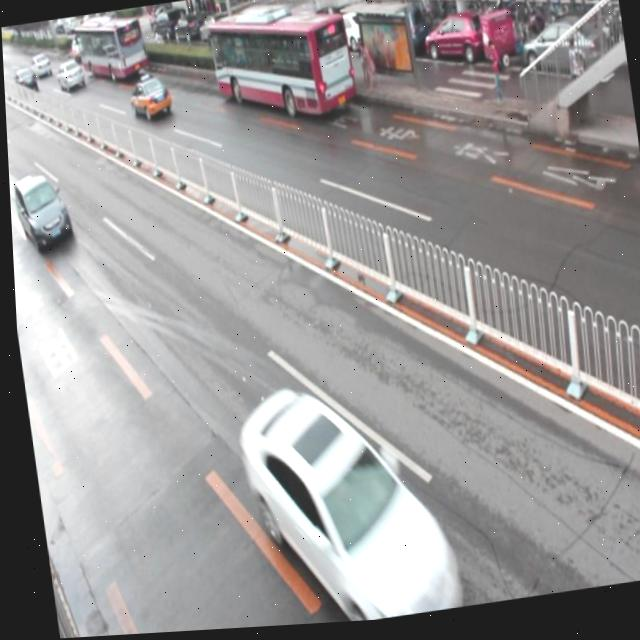car: (228, 369, 457, 630), (126, 74, 172, 127)
truck: (9, 167, 73, 253)
van: (206, 4, 356, 132)
